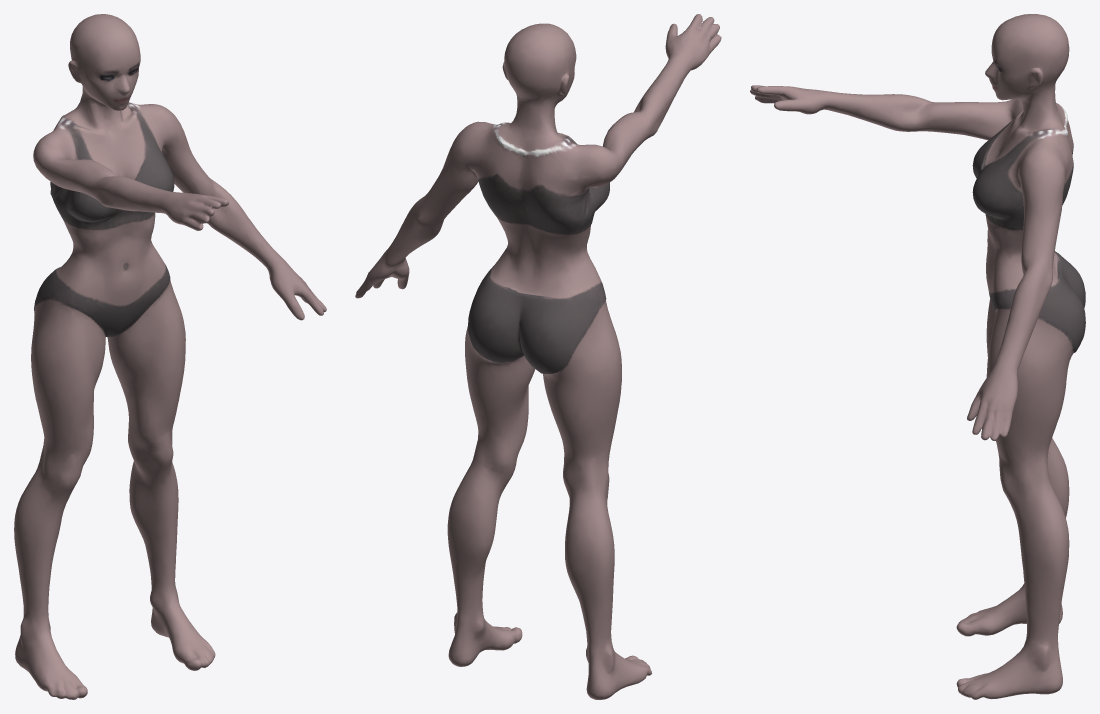
File: coordinated-UpperArmL-90.glb
The picture shows the model from 3 angles, left to right: view 1: azimuth 30°, elevation 25°; view 2: azimuth 150°, elevation 25°; view 3: azimuth 270°, elevation 25°; orthographic projection.
Parts seen in each view (by area): view 1: coordinated-UpperArmL-90; view 2: coordinated-UpperArmL-90; view 3: coordinated-UpperArmL-90.
Part boxes in pixels (x1,y1,x2,y2): coordinated-UpperArmL-90: [14, 14, 326, 699]; coordinated-UpperArmL-90: [355, 14, 721, 699]; coordinated-UpperArmL-90: [750, 14, 1085, 699].
Size of the model in its own units: 0.4619 by 1 by 0.4724.
1 material, 1 textured.
